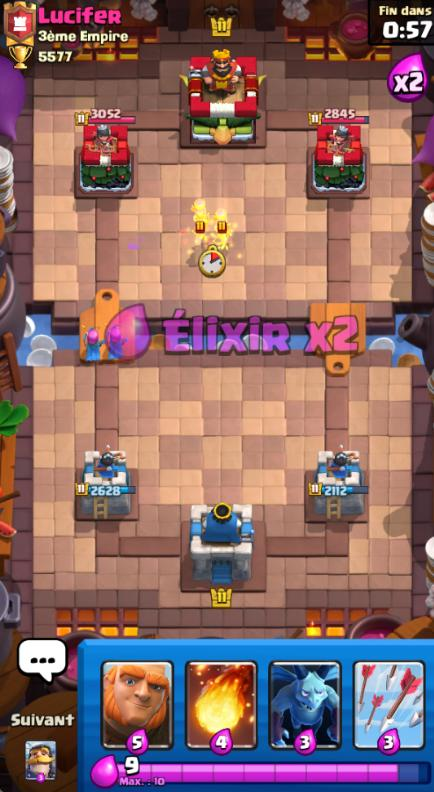archere: (80, 325, 105, 364), (108, 325, 128, 359), (190, 199, 211, 230), (214, 206, 233, 239)
